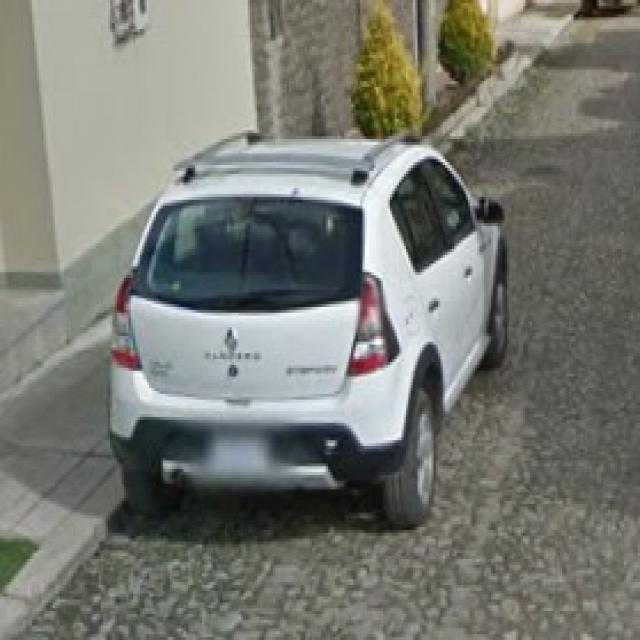Car: (117, 136, 510, 537)
